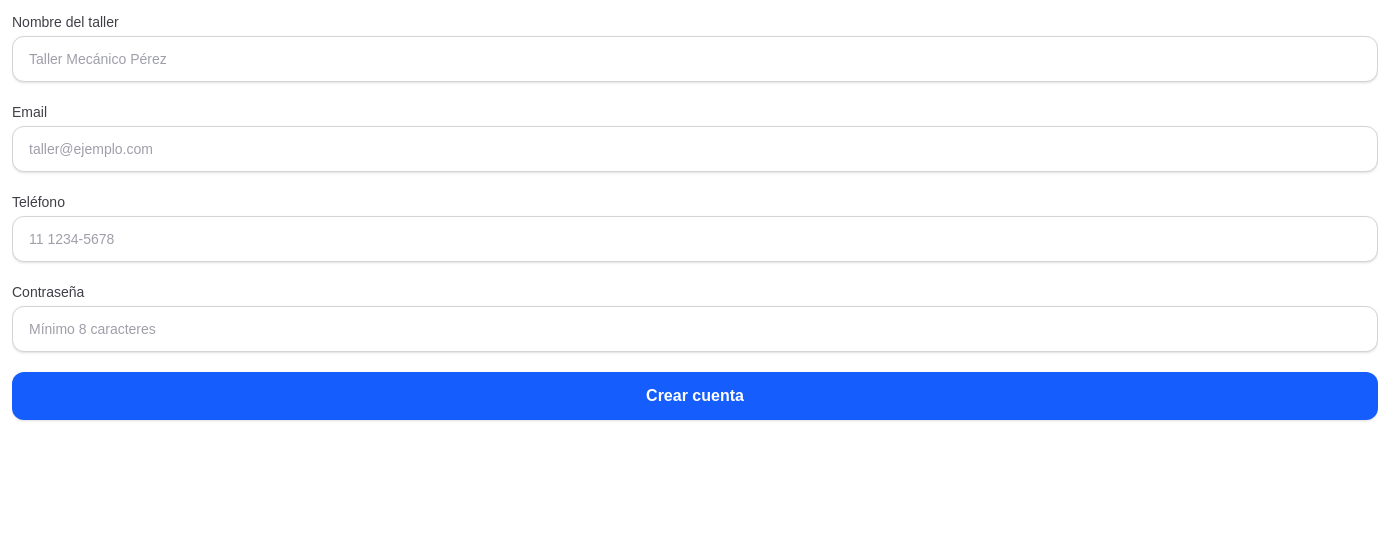
Scenario: RegisterForm › validation › shows all errors when form is submitted empty
Click the button "Crear cuenta" at (695,396), box left=12, top=372, right=1378, bottom=420
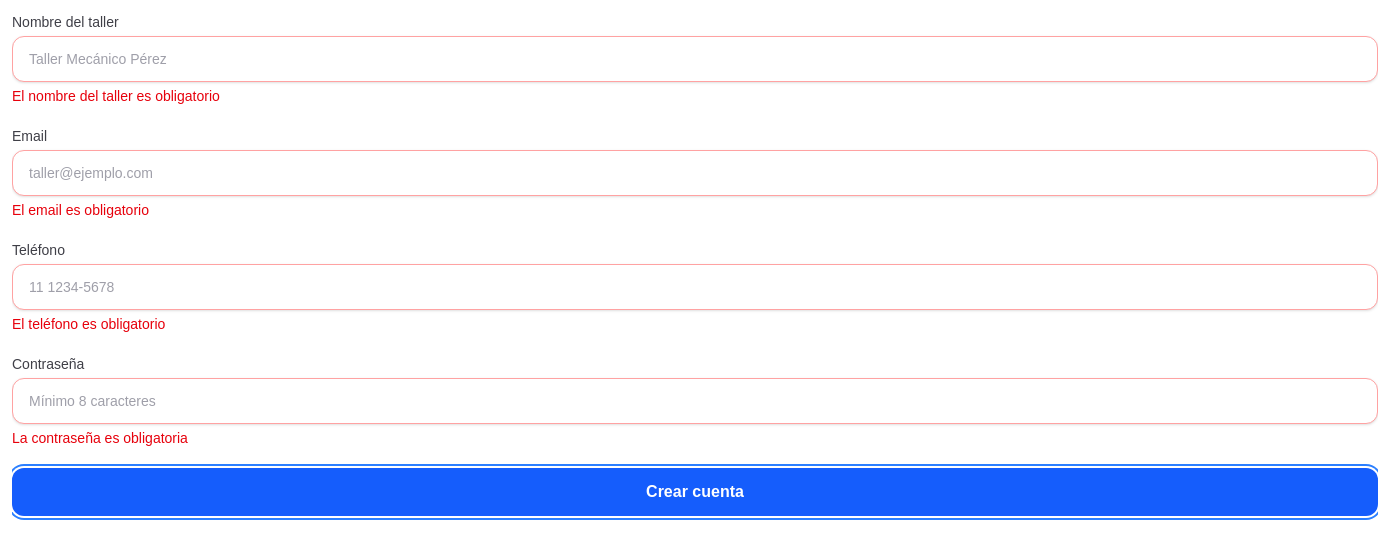
Expected: the text "El nombre del taller es obligatorio" is shown, left=12, top=88, right=220, bottom=104
Expected: the text "El email es obligatorio" is shown, left=12, top=202, right=149, bottom=218
Expected: the text "El teléfono es obligatorio" is shown, left=12, top=316, right=165, bottom=332
